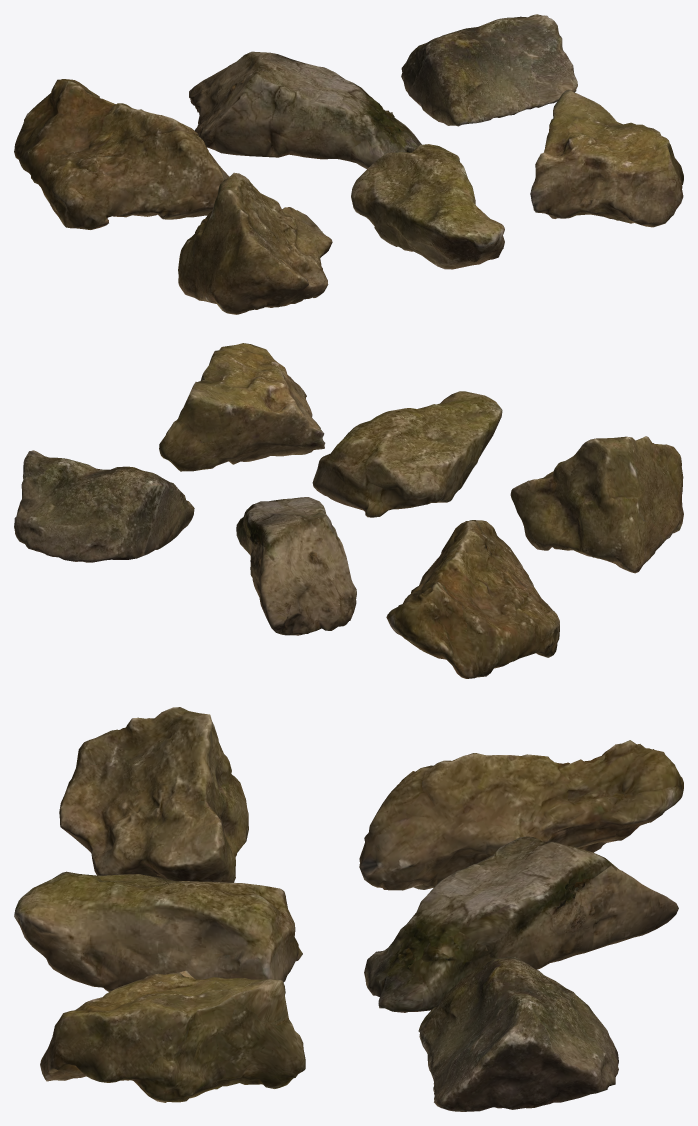
The model's file is rock_moss_set_01.gltf.
The picture shows the model from 3 angles, top to bottom: view 1: azimuth 30°, elevation 25°; view 2: azimuth 150°, elevation 25°; view 3: azimuth 270°, elevation 25°; orthographic projection. The views are drawn at different scales.
Parts seen in each view (by area): view 1: rock_moss_set_01_rock01, rock_moss_set_01_rock02, rock_moss_set_01_rock06, rock_moss_set_01_rock04, rock_moss_set_01_rock03, rock_moss_set_01_rock05; view 2: rock_moss_set_01_rock04, rock_moss_set_01_rock01, rock_moss_set_01_rock05, rock_moss_set_01_rock03, rock_moss_set_01_rock06, rock_moss_set_01_rock02; view 3: rock_moss_set_01_rock01, rock_moss_set_01_rock02, rock_moss_set_01_rock05, rock_moss_set_01_rock04, rock_moss_set_01_rock06, rock_moss_set_01_rock03.
Part boxes in pixels (bbox=[...]): rock_moss_set_01_rock01: bbox=[14, 79, 229, 229]; rock_moss_set_01_rock02: bbox=[189, 51, 421, 168]; rock_moss_set_01_rock06: bbox=[530, 89, 683, 227]; rock_moss_set_01_rock04: bbox=[178, 172, 332, 314]; rock_moss_set_01_rock03: bbox=[401, 14, 577, 126]; rock_moss_set_01_rock05: bbox=[351, 144, 504, 269]; rock_moss_set_01_rock04: bbox=[510, 436, 683, 573]; rock_moss_set_01_rock01: bbox=[386, 520, 559, 678]; rock_moss_set_01_rock05: bbox=[312, 391, 502, 517]; rock_moss_set_01_rock03: bbox=[14, 450, 194, 562]; rock_moss_set_01_rock06: bbox=[159, 343, 325, 471]; rock_moss_set_01_rock02: bbox=[236, 497, 356, 635]; rock_moss_set_01_rock01: bbox=[359, 740, 683, 890]; rock_moss_set_01_rock02: bbox=[364, 836, 678, 1012]; rock_moss_set_01_rock05: bbox=[14, 871, 302, 991]; rock_moss_set_01_rock04: bbox=[59, 707, 248, 882]; rock_moss_set_01_rock06: bbox=[40, 970, 305, 1102]; rock_moss_set_01_rock03: bbox=[418, 956, 618, 1111].
Bounding box in the file's own units: 8 × 1.77 × 6.94.
1 material, 1 textured.
